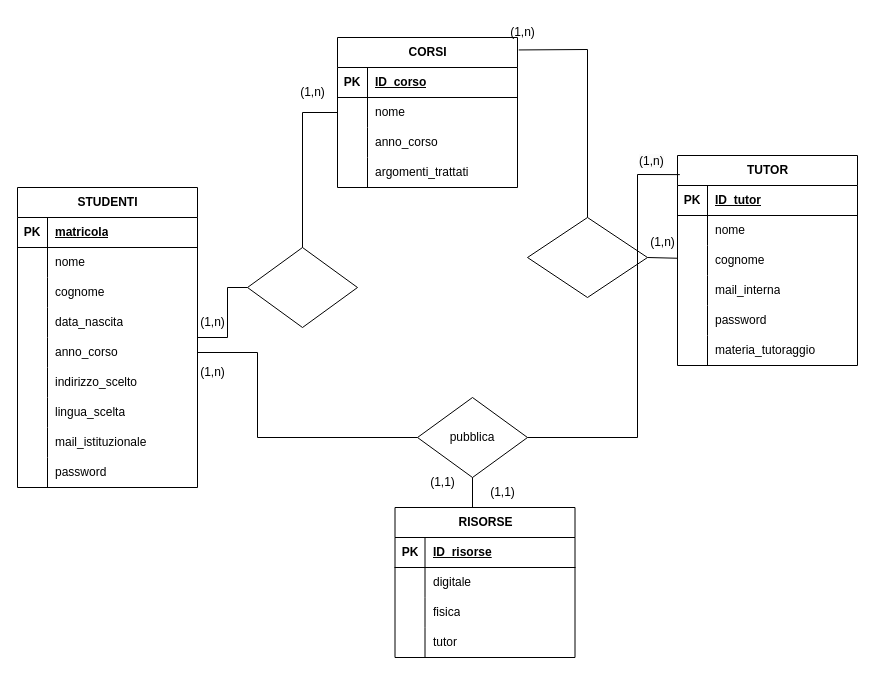
Some shapes in this 875 by 675 pixel diagram are drawn without their labels. The shapes that lost their labels are listed below. From the top down, each one's centre as x and y in pixels, then its label:
point 587,257: insegna
point 302,287: frequenta
